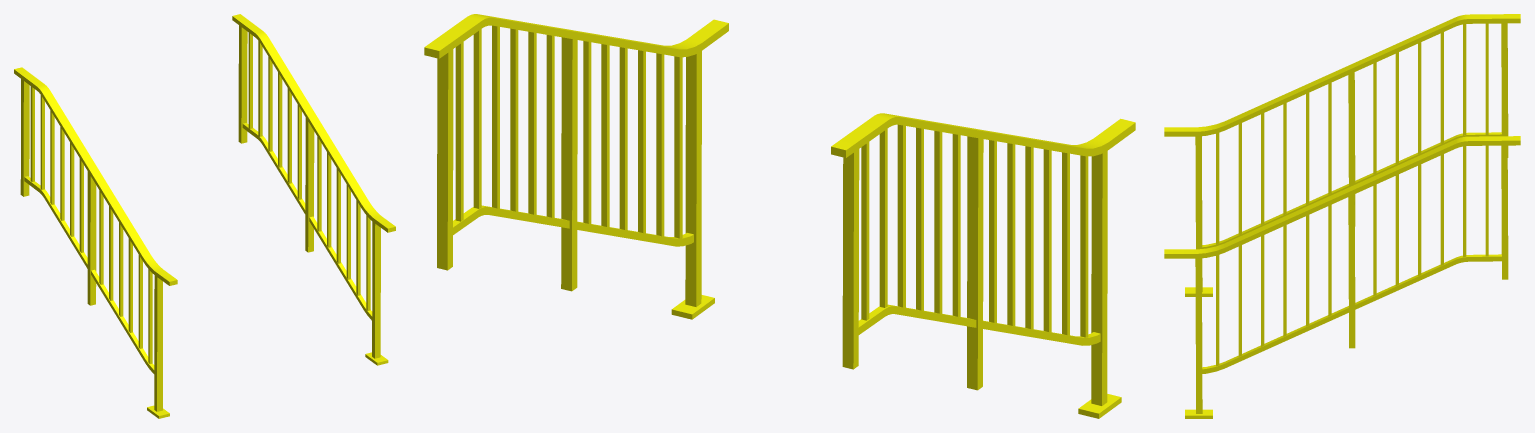
The model's file is stairs-rails-metal.glb.
The picture shows the model from 3 angles, left to right: view 1: azimuth 30°, elevation 25°; view 2: azimuth 150°, elevation 25°; view 3: azimuth 270°, elevation 25°; orthographic projection. The views are drawn at different scales.
Visible parts, largest first — view 1: Stairs_Rails_Metal; view 2: Stairs_Rails_Metal; view 3: Stairs_Rails_Metal.
Boxes of the visible parts, x1,y1,x2,y2 form: Stairs_Rails_Metal: (14,14,395,418); Stairs_Rails_Metal: (424,14,1135,418); Stairs_Rails_Metal: (1164,14,1520,418).
Size of the model in its own units: 1.96 by 1.98 by 2.31.
1 material, 1 textured.
